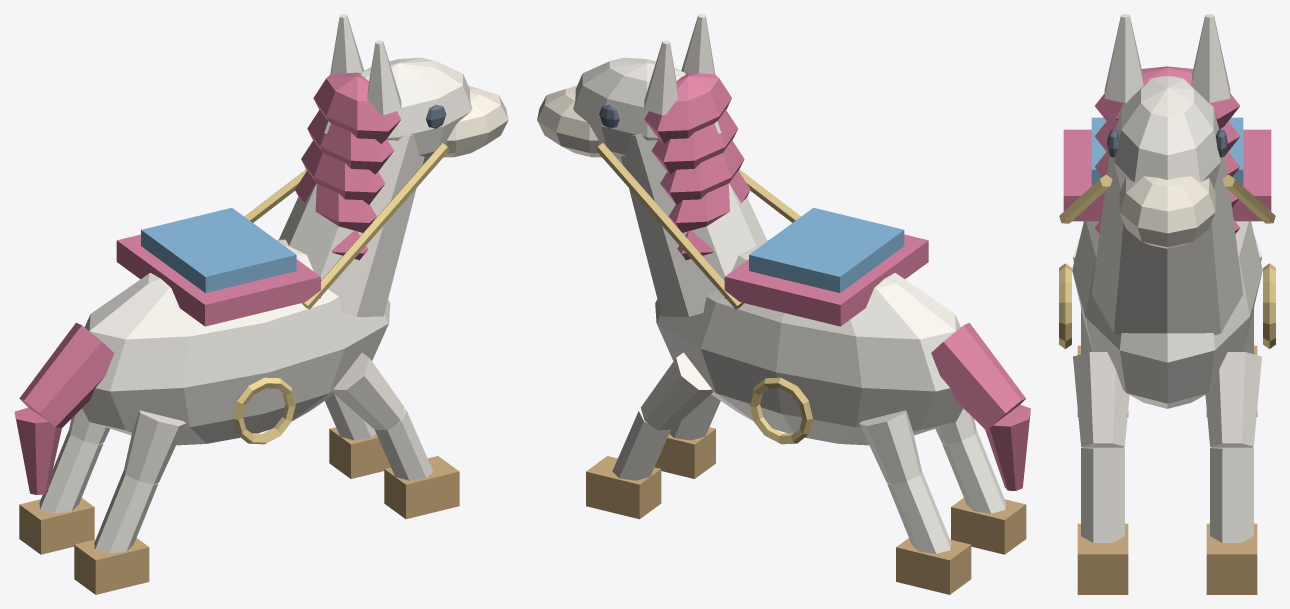
Rendered from caballito.glb.
3 renders of one model, left to right at view 1: azimuth 30°, elevation 25°; view 2: azimuth 150°, elevation 25°; view 3: azimuth 270°, elevation 25°, orthographic. The views are drawn at different scales.
Parts seen in each view (by area): view 1: caballito; view 2: caballito; view 3: caballito.
Boxes of the visible parts, x1,y1,x2,y2 form: caballito: [14, 14, 508, 594]; caballito: [537, 14, 1030, 594]; caballito: [1059, 14, 1275, 594].
Bounding box in the file's own units: 1.18 × 1.07 × 0.3868.
